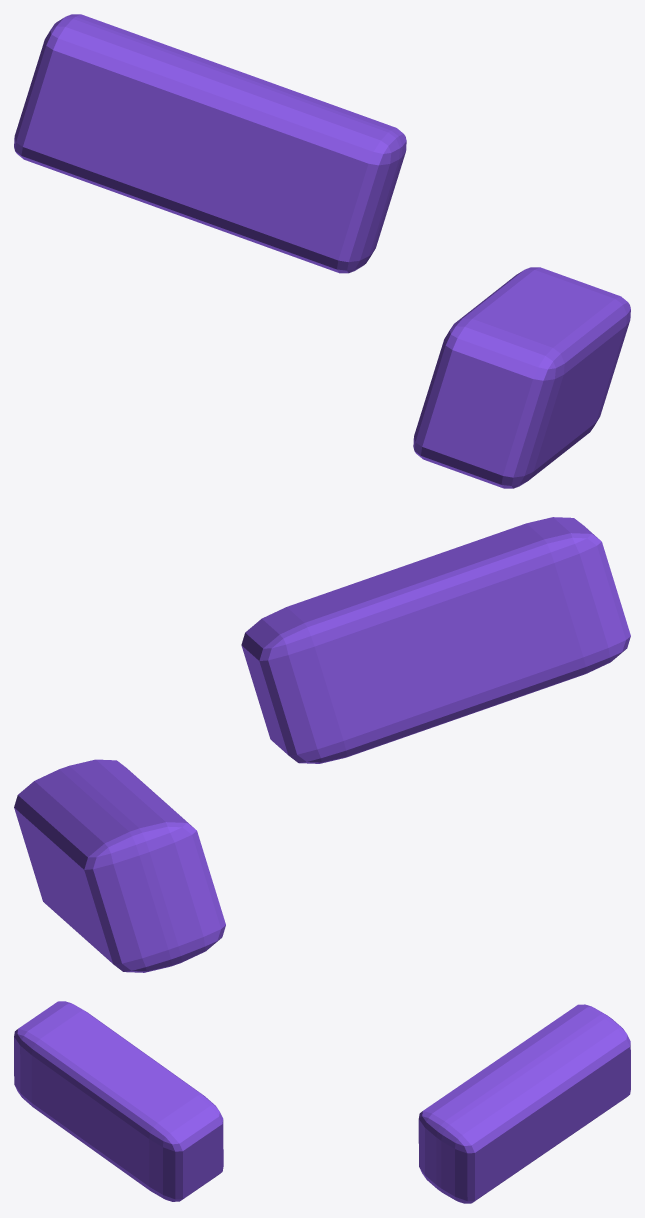
Rendered from PinBallBumpers.fbx.
The picture shows the model from 3 angles, top to bottom: view 1: azimuth 30°, elevation 25°; view 2: azimuth 150°, elevation 25°; view 3: azimuth 270°, elevation 25°; orthographic projection. The views are drawn at different scales.
Parts seen in each view (by area): view 1: Cube.024; view 2: Cube.024; view 3: Cube.024.
Part boxes in pixels (x1,y1,x2,y2): Cube.024: [14, 14, 630, 488]; Cube.024: [14, 517, 630, 972]; Cube.024: [14, 1001, 630, 1203].
Bounding box in the file's own units: 134 × 87.39 × 365.
